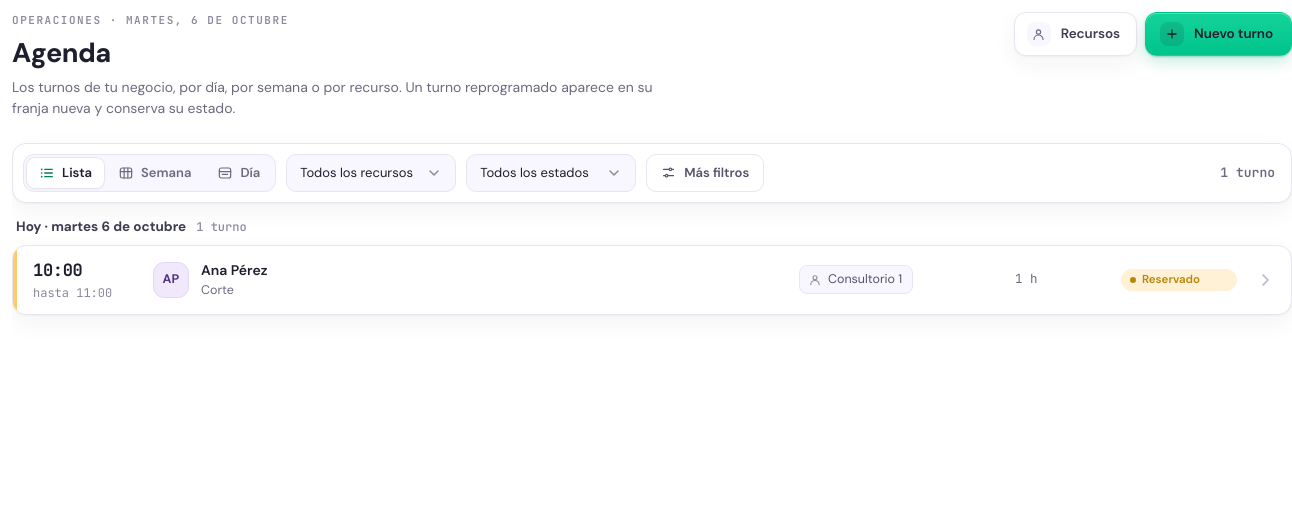
Scenario: Agenda · vistas › con un filtro puesto, el vacío ofrece limpiarlo y vuelve a pedir sin filtros
Select "No se presentó" in the 2nd dropdown named "Estado" at (551,173), box [466,154,636,192]
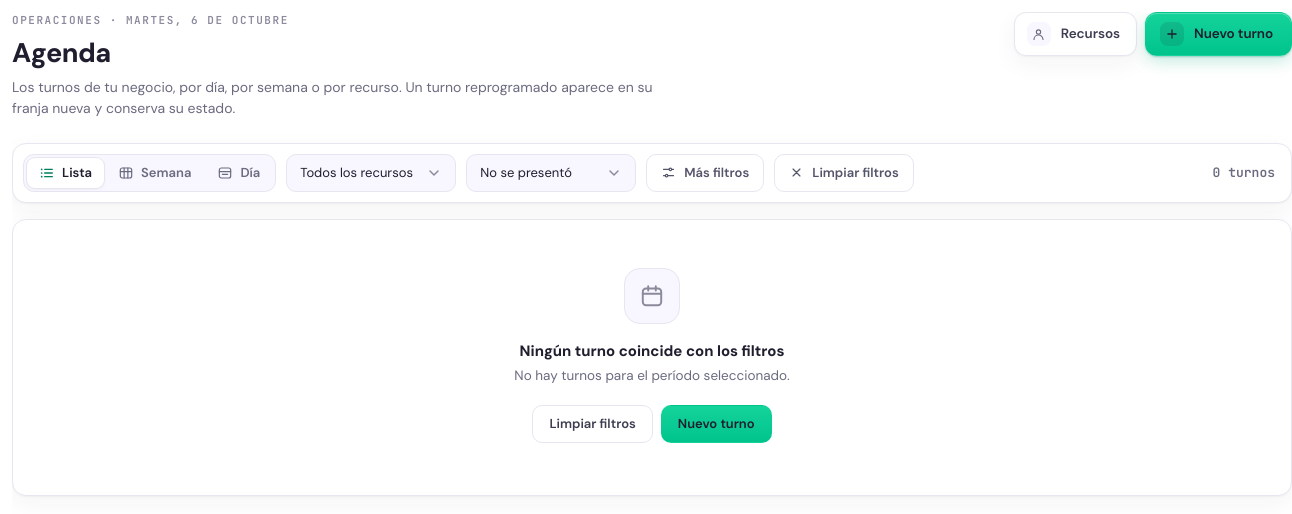
Check: the text "Ningún turno coincide con los filtros" is shown, box [514,340,790,362]
Click the button "Limpiar filtros" below "Ningún turno coincide con los filtros".
click(593, 424)  # box [532,405,653,443]
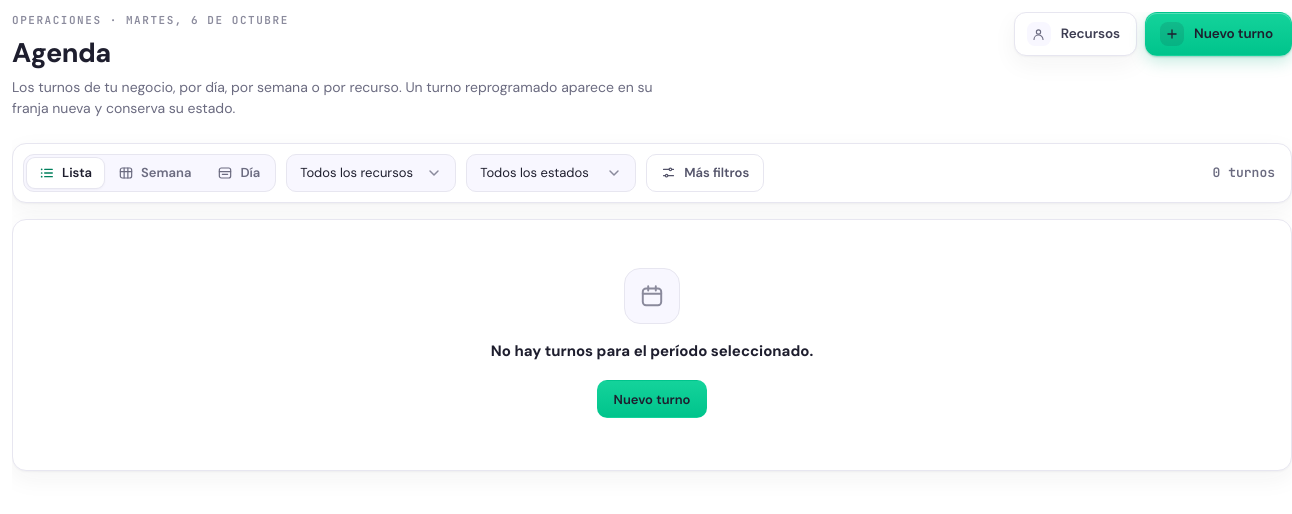
Check: the text "Ningún turno coincide con los filtros" is gone
